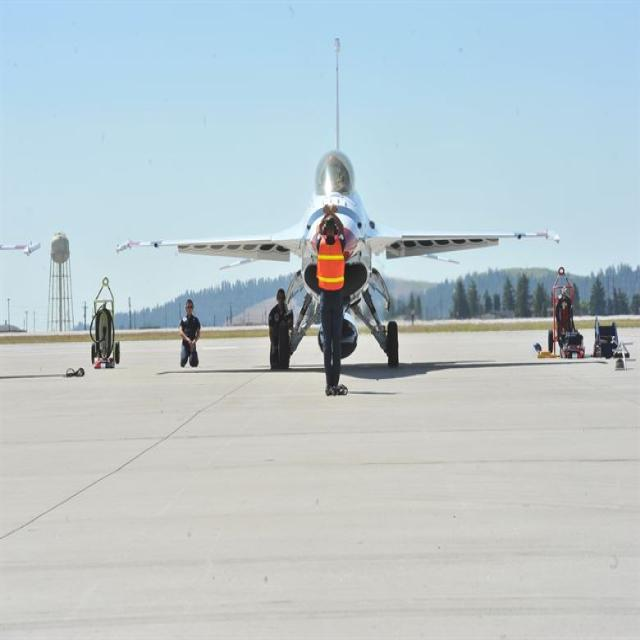MIL_Plane: (116, 37, 562, 372)
